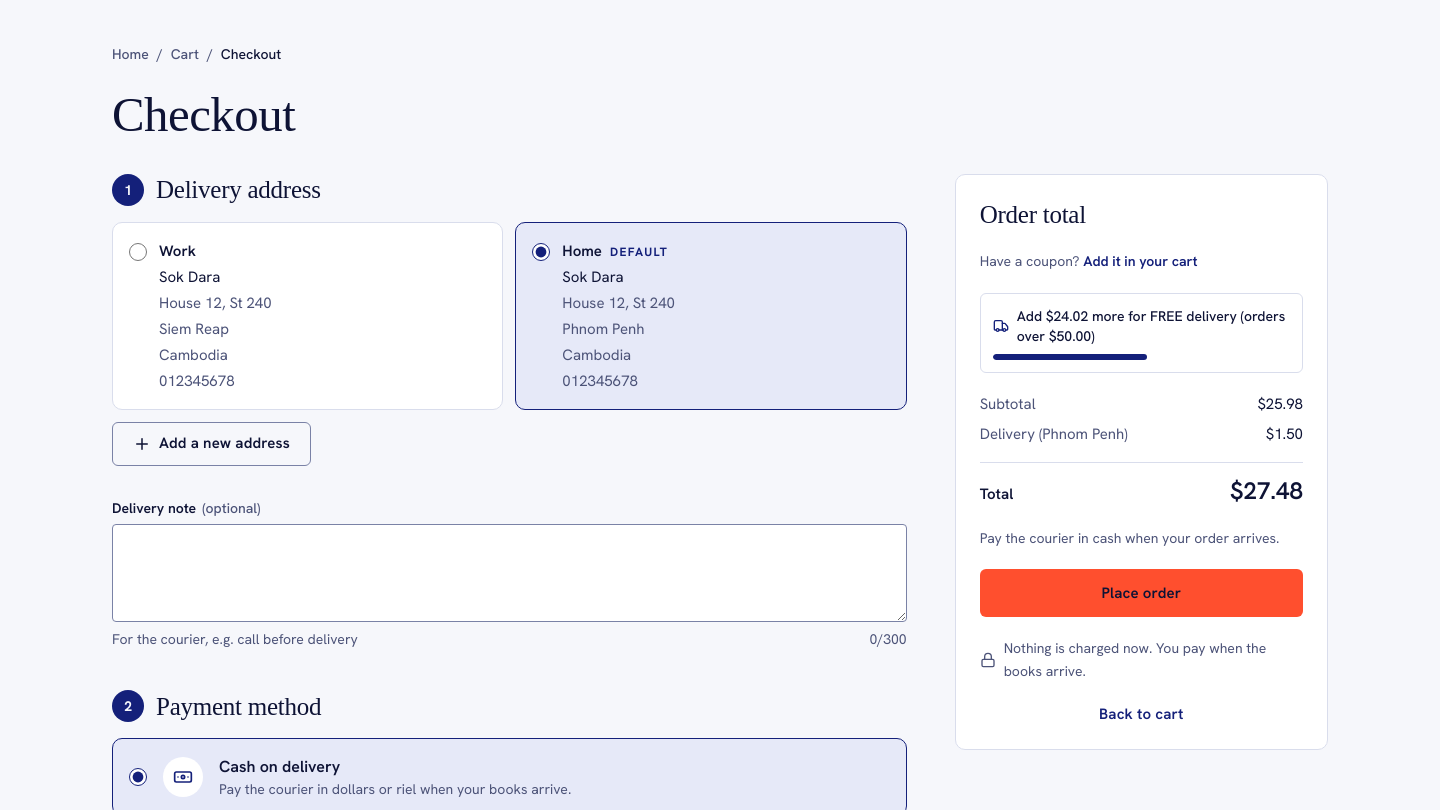
Test: CheckoutPage › prices delivery for the chosen address
Expected: the text "Delivery (Phnom Penh)" is shown, left=980, top=424, right=1128, bottom=444
Expected: the text "$1.50" is shown, left=1266, top=423, right=1303, bottom=446
Step 1. Click the radio button labelled "Work Sok Dara House 12, St 240 Siem Reap Cambodia 012345678" → [138, 252], box left=129, top=243, right=147, bottom=261
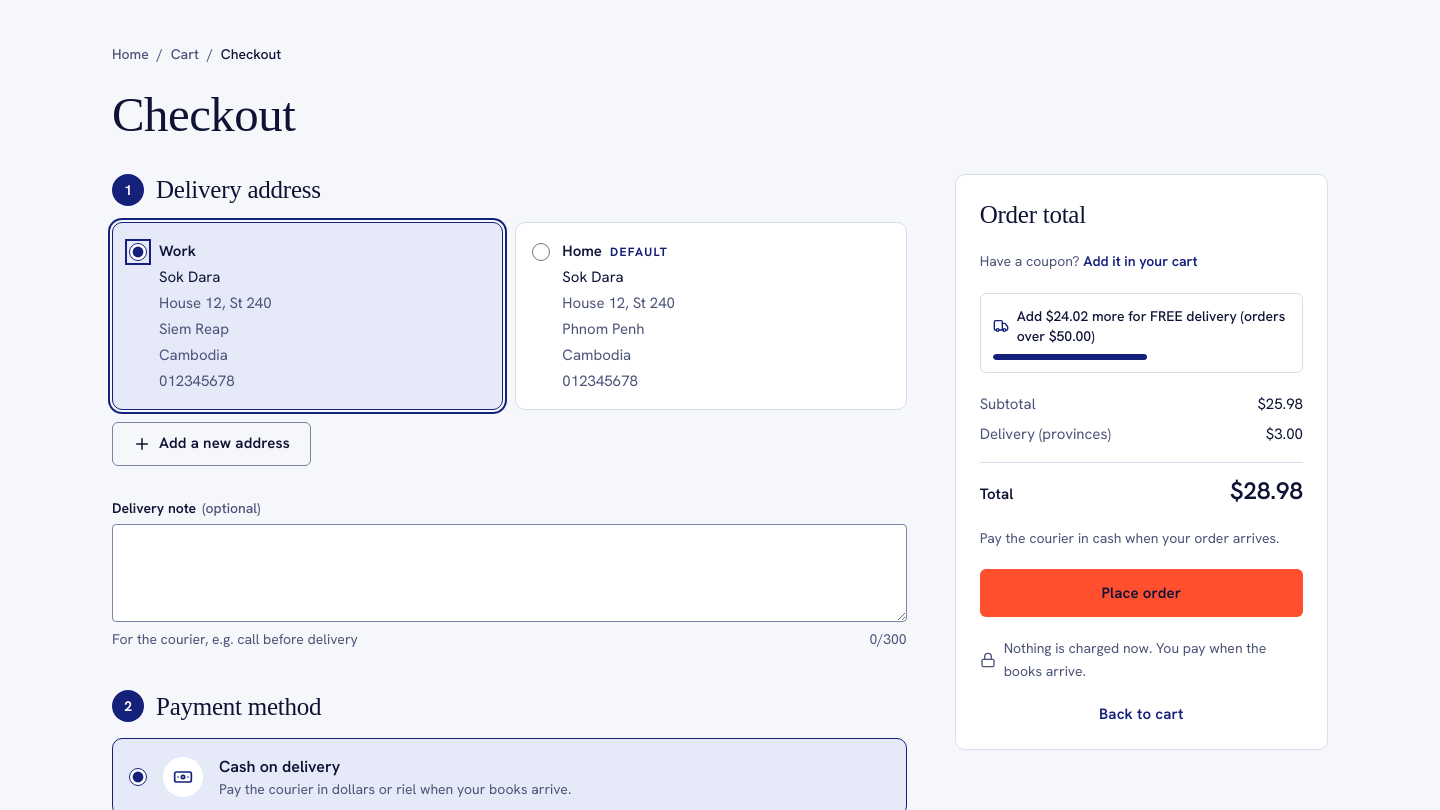
Result: the text "Delivery (provinces)" is shown at left=980, top=424, right=1111, bottom=444
Result: the text "$3.00" is shown at left=1266, top=423, right=1303, bottom=446
